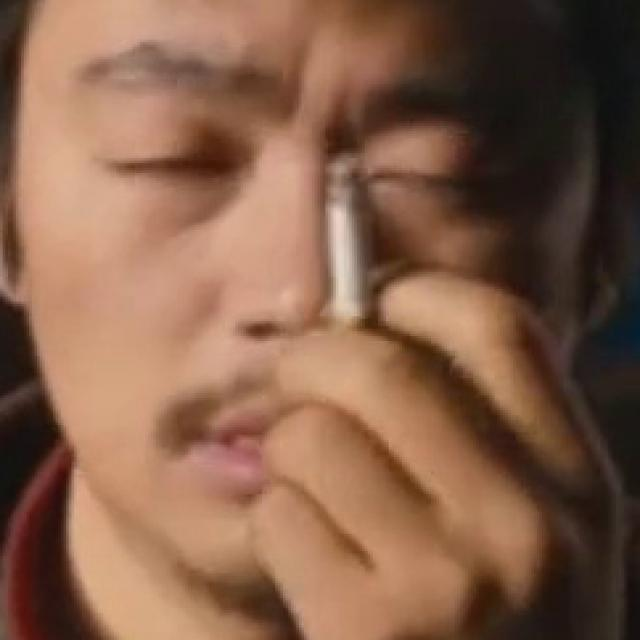smoking: (328, 157, 371, 331)
